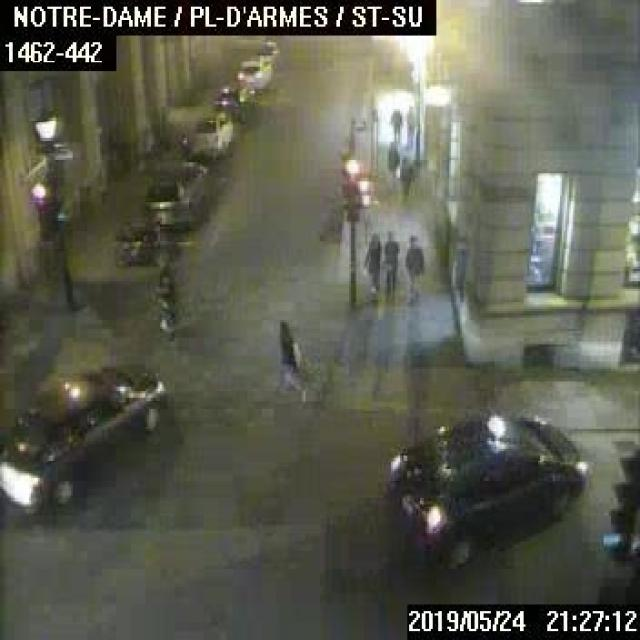pedestrian: (273, 313, 307, 400), (154, 266, 174, 338), (402, 233, 423, 301), (380, 229, 400, 297), (360, 228, 380, 296), (405, 103, 416, 148), (399, 156, 410, 200), (390, 106, 401, 146), (386, 140, 396, 184)
vehicle: (377, 405, 586, 571), (0, 358, 162, 516), (140, 158, 211, 229), (114, 223, 170, 265), (188, 110, 235, 160), (212, 81, 255, 121), (235, 54, 273, 92)
